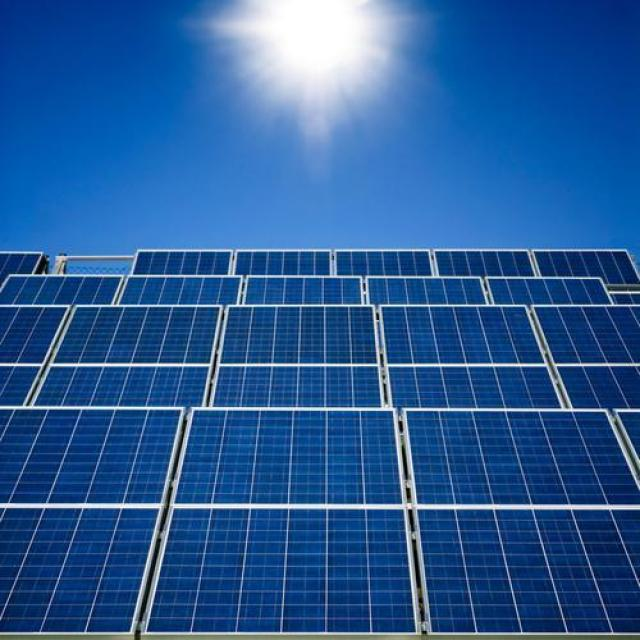clean-solar-panel: (1, 251, 640, 640)
